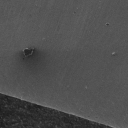corrosion: (21, 47, 35, 58), (104, 21, 112, 29), (111, 51, 116, 55)
